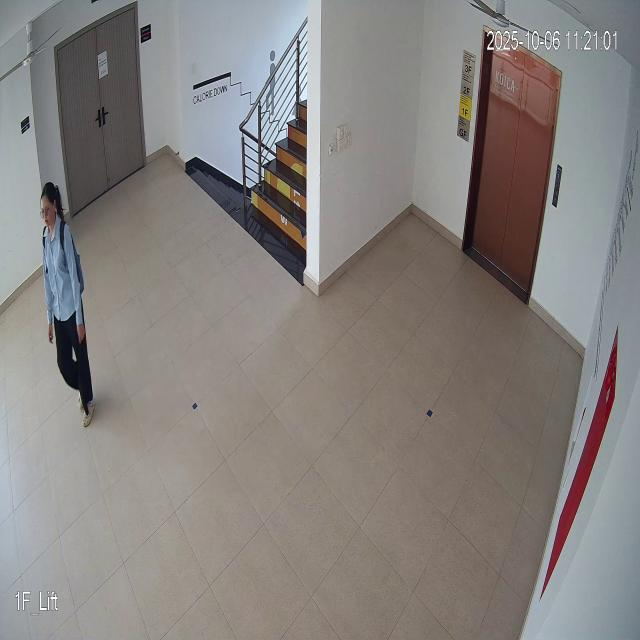face: (36, 176, 61, 230)
